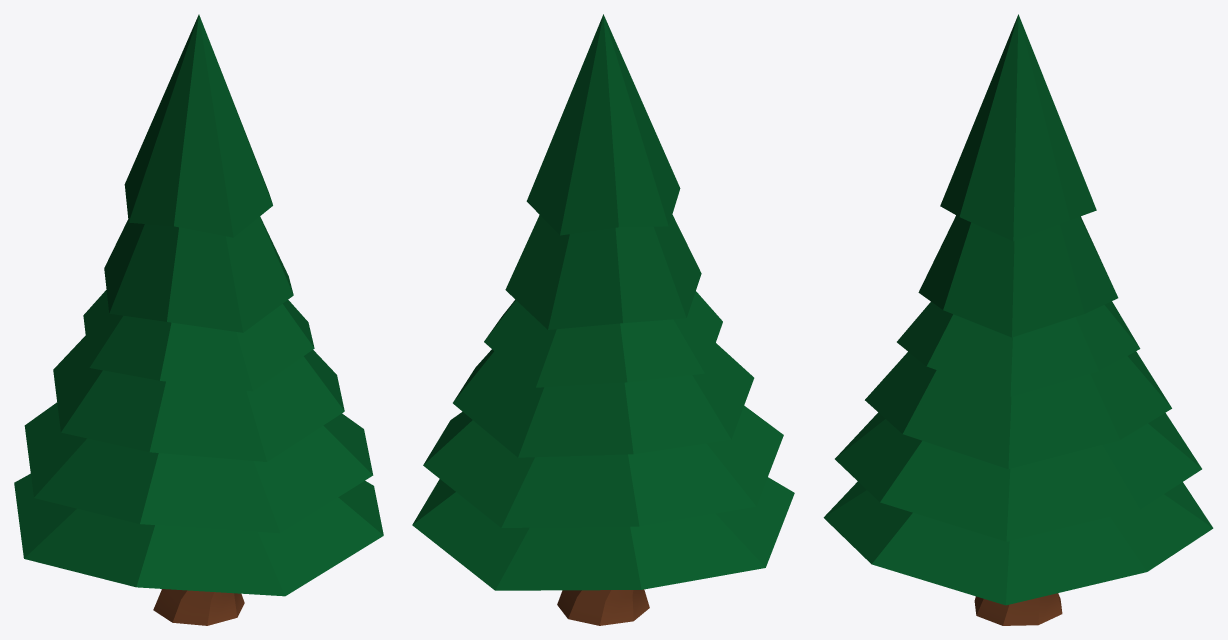
The model's file is tree6.fbx.
3 renders of one model, left to right at view 1: azimuth 30°, elevation 25°; view 2: azimuth 150°, elevation 25°; view 3: azimuth 270°, elevation 25°, orthographic.
Parts seen in each view (by area): view 1: pCylinder14; view 2: pCylinder14; view 3: pCylinder14.
Boxes of the visible parts, <box> form: pCylinder14: <box>14,14,383,625</box>; pCylinder14: <box>412,14,794,625</box>; pCylinder14: <box>823,14,1213,625</box>.
Bounding box in the file's own units: 32.59 × 54.69 × 32.59.
